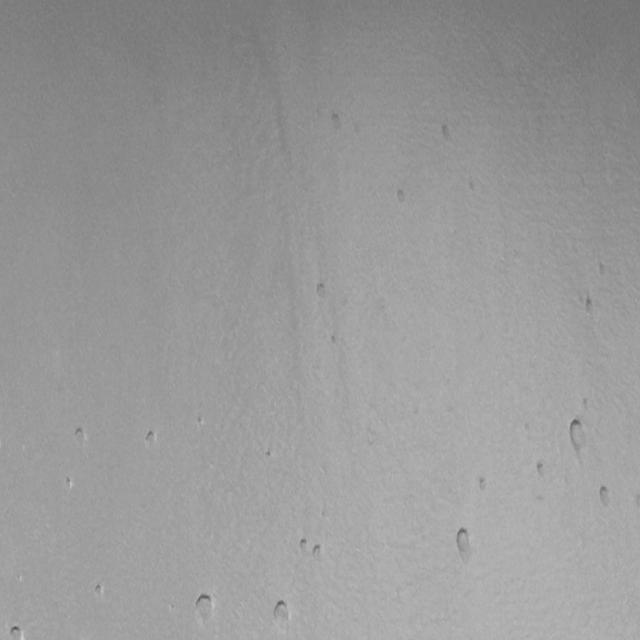pin holes: (564, 416, 588, 454), (193, 592, 217, 627), (451, 528, 474, 562), (271, 597, 292, 628), (438, 121, 458, 146), (327, 111, 346, 137), (597, 484, 614, 511), (73, 423, 91, 448), (142, 428, 162, 450), (312, 278, 330, 302), (535, 461, 552, 482), (468, 174, 482, 198), (582, 296, 598, 316), (395, 187, 410, 208), (298, 536, 312, 556), (93, 582, 108, 600), (9, 624, 26, 639), (63, 475, 76, 493), (595, 260, 608, 278), (477, 475, 489, 494), (310, 542, 324, 558), (195, 412, 207, 430), (264, 446, 276, 461), (330, 335, 338, 348)
